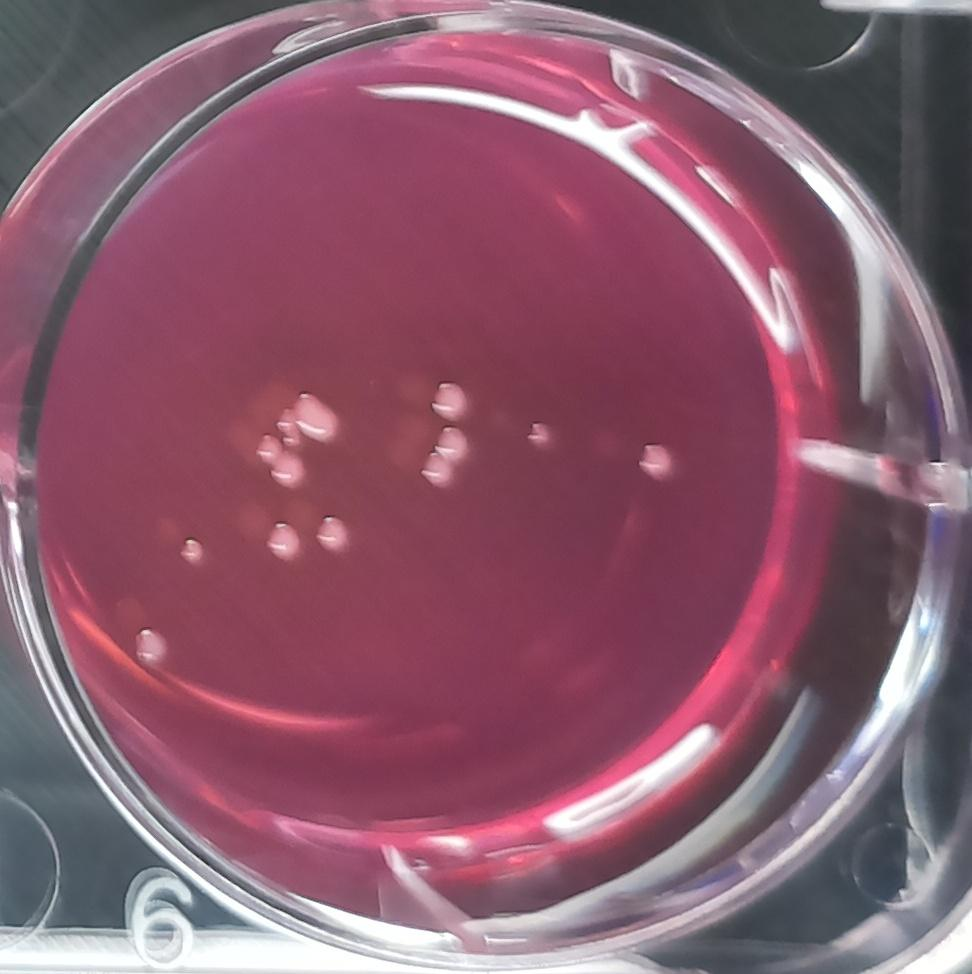bcereus: (249, 430, 306, 492), (288, 388, 343, 446), (128, 622, 176, 671), (427, 376, 472, 423), (638, 438, 680, 488), (312, 509, 351, 559), (261, 517, 302, 563), (413, 450, 455, 491), (433, 424, 471, 468), (173, 527, 207, 566), (523, 415, 553, 452)
